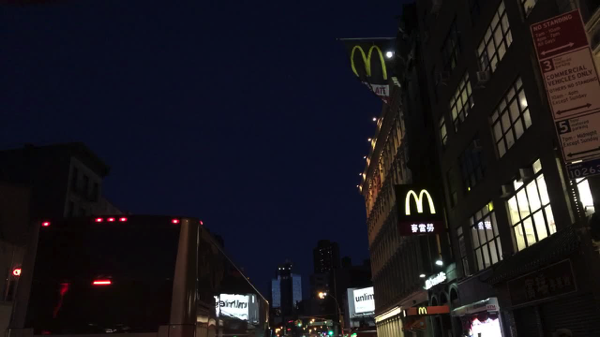bus: (3, 216, 272, 337)
traffic light: (328, 329, 334, 336), (297, 319, 301, 327), (301, 320, 303, 328), (294, 321, 297, 326)
traffic sign: (310, 321, 334, 326)
